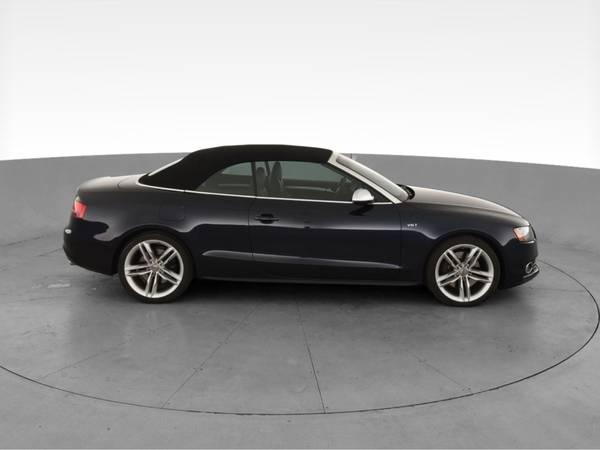Front_Bumper: (501, 242, 539, 289)
Front_Fender: (396, 201, 529, 284)
Front_Right_Door: (248, 200, 401, 285)
Front_Right_Window: (194, 159, 393, 205)
Hood: (403, 181, 528, 221)
Rear_Bumper: (56, 218, 121, 280)
Rear_Fender: (73, 189, 256, 286)
Right_Headlight: (512, 222, 536, 243)
Right_Taillight: (69, 197, 83, 218)
Roof: (141, 143, 406, 204)
Wheel: (429, 236, 502, 306), (115, 233, 190, 301)
